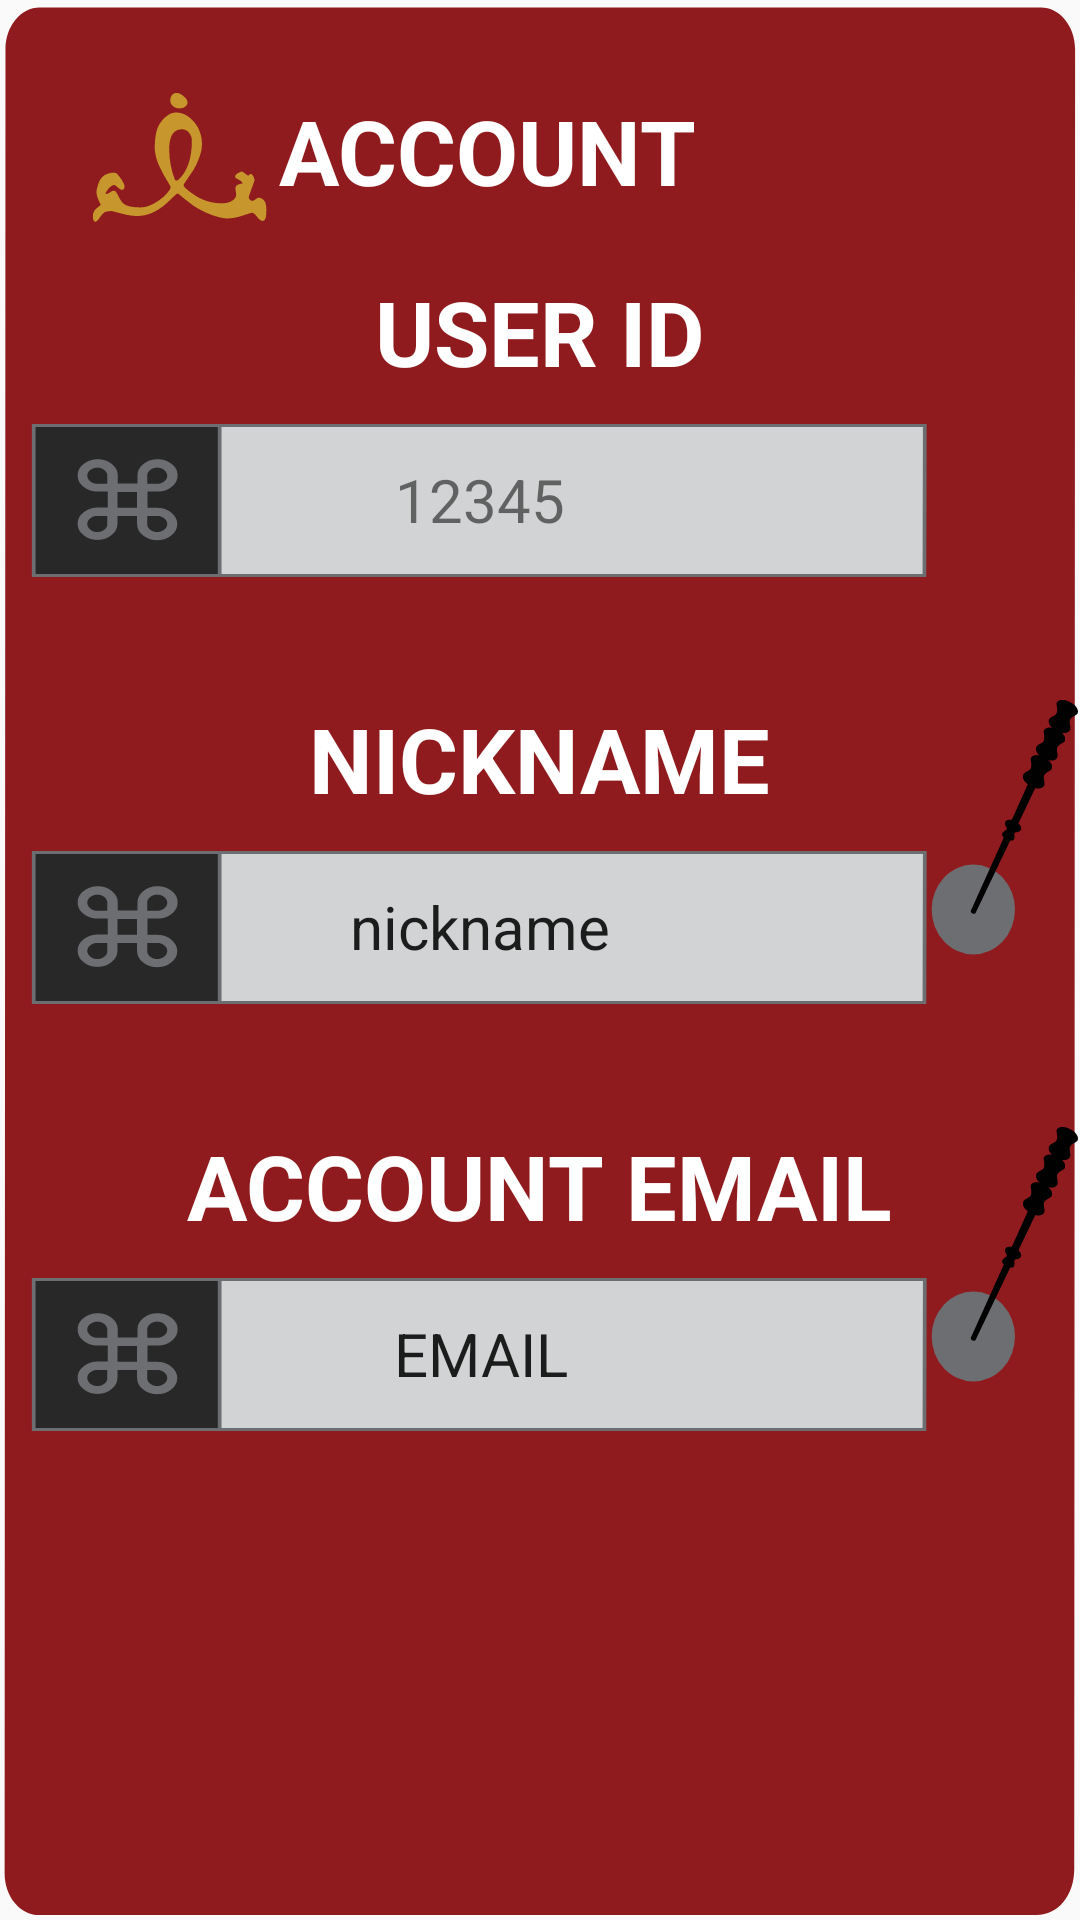

Point at icon controls on the screen. Image size 1080px×1920px, points as point (x, y).
edit field: point (1005, 827), point (1005, 1254)
